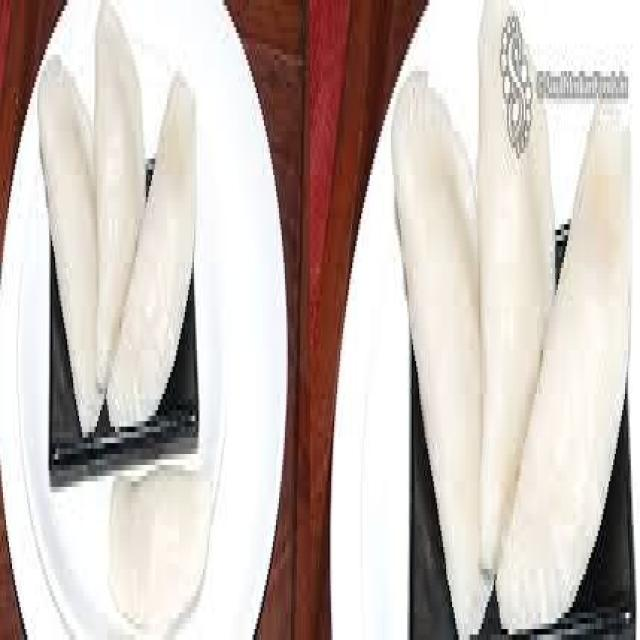poorna kolukattai: (375, 0, 640, 640), (29, 5, 215, 640)
